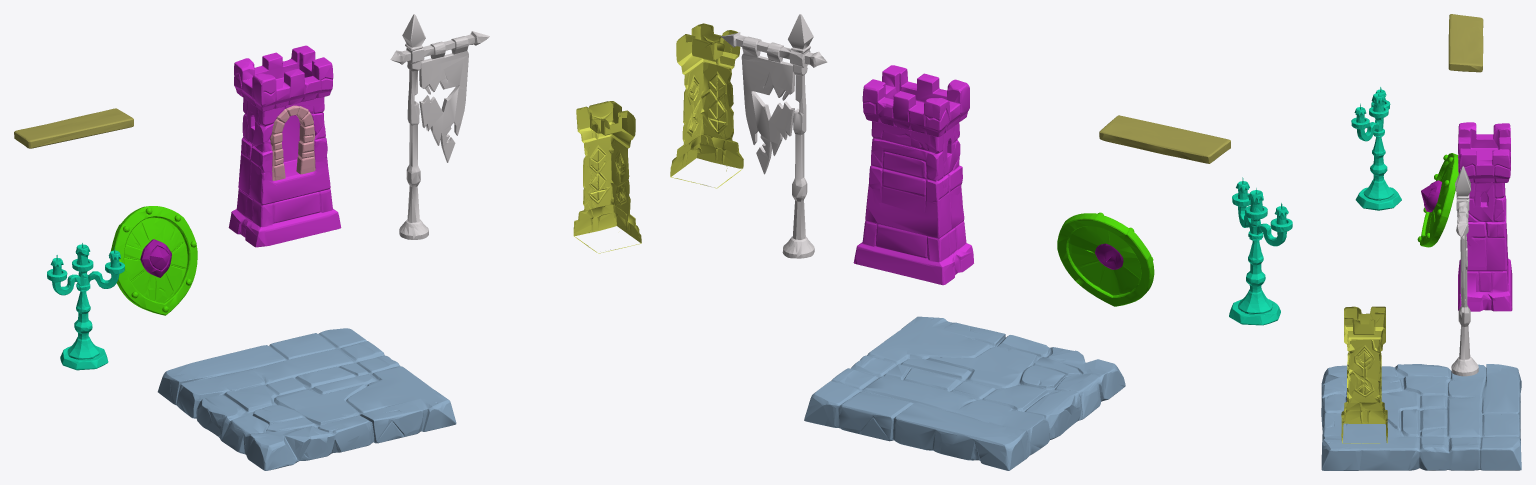
3 views of the same model, side by side, from view 1: azimuth 30°, elevation 25°; view 2: azimuth 150°, elevation 25°; view 3: azimuth 270°, elevation 25° (orthographic). The views are drawn at different scales.
Visible parts, largest first — view 1: part_0, part_5, part_6, part_4, part_2, part_11, part_9, part_10; view 2: part_0, part_5, part_6, part_2, part_4, part_11, part_9; view 3: part_0, part_5, part_2, part_11, part_6, part_4, part_9.
Part boxes in pixels (bbox=[...]): part_0: bbox=[157, 328, 456, 470]; part_5: bbox=[228, 45, 341, 247]; part_6: bbox=[390, 14, 489, 239]; part_4: bbox=[110, 206, 197, 315]; part_2: bbox=[573, 101, 641, 253]; part_11: bbox=[47, 243, 124, 370]; part_9: bbox=[14, 108, 133, 148]; part_10: bbox=[270, 105, 315, 180]; part_0: bbox=[804, 316, 1125, 470]; part_5: bbox=[853, 65, 973, 285]; part_6: bbox=[721, 14, 827, 258]; part_2: bbox=[670, 23, 743, 188]; part_4: bbox=[1057, 212, 1154, 306]; part_11: bbox=[1229, 177, 1292, 325]; part_9: bbox=[1099, 115, 1230, 163]; part_0: bbox=[1321, 364, 1521, 470]; part_5: bbox=[1458, 122, 1512, 311]; part_2: bbox=[1341, 306, 1387, 443]; part_11: bbox=[1351, 87, 1401, 210]; part_6: bbox=[1451, 166, 1478, 376]; part_4: bbox=[1417, 153, 1458, 247]; part_9: bbox=[1448, 14, 1483, 72].
Bounding box in the file's own units: 1.9 × 1.1 × 0.6245.
